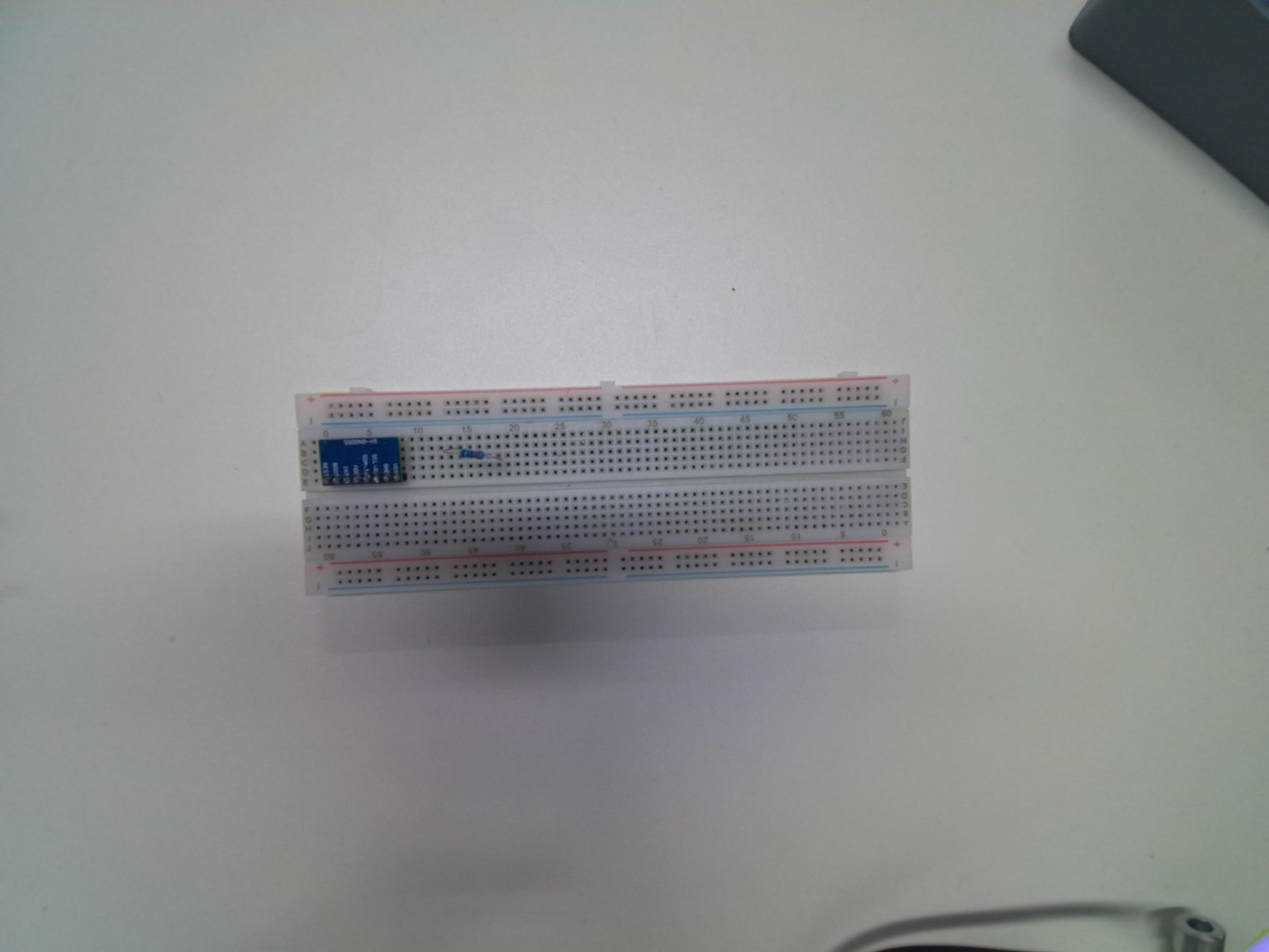base: (292, 377, 914, 595)
blue-board: (316, 434, 407, 487)
resistor-small: (459, 442, 486, 463)
